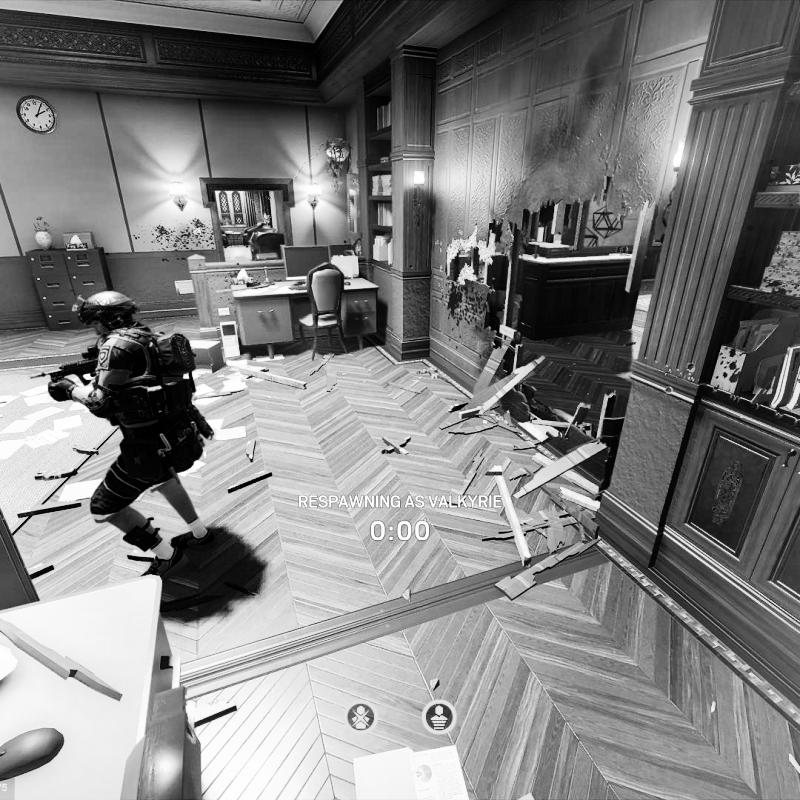Character: (34, 282, 216, 586)
Head: (78, 287, 142, 337)
